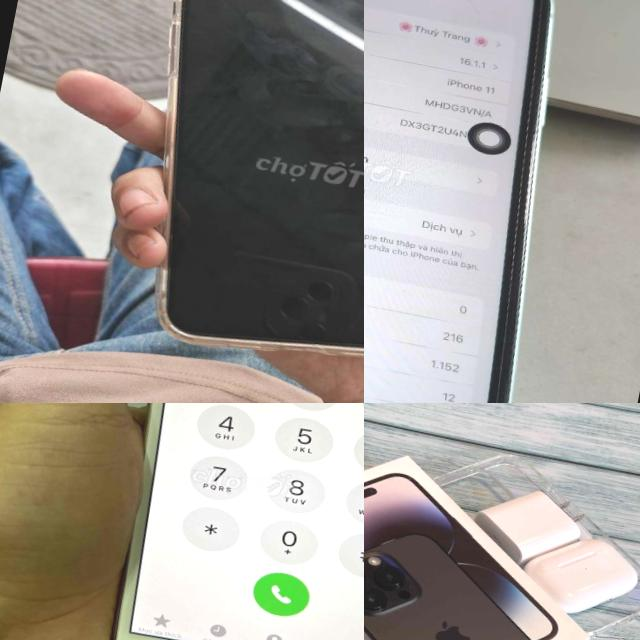gen_11: (364, 0, 601, 403)
gen_14: (364, 513, 624, 640)
gen_7_8: (78, 403, 364, 640)
gen_x_xs: (89, 0, 364, 403)
